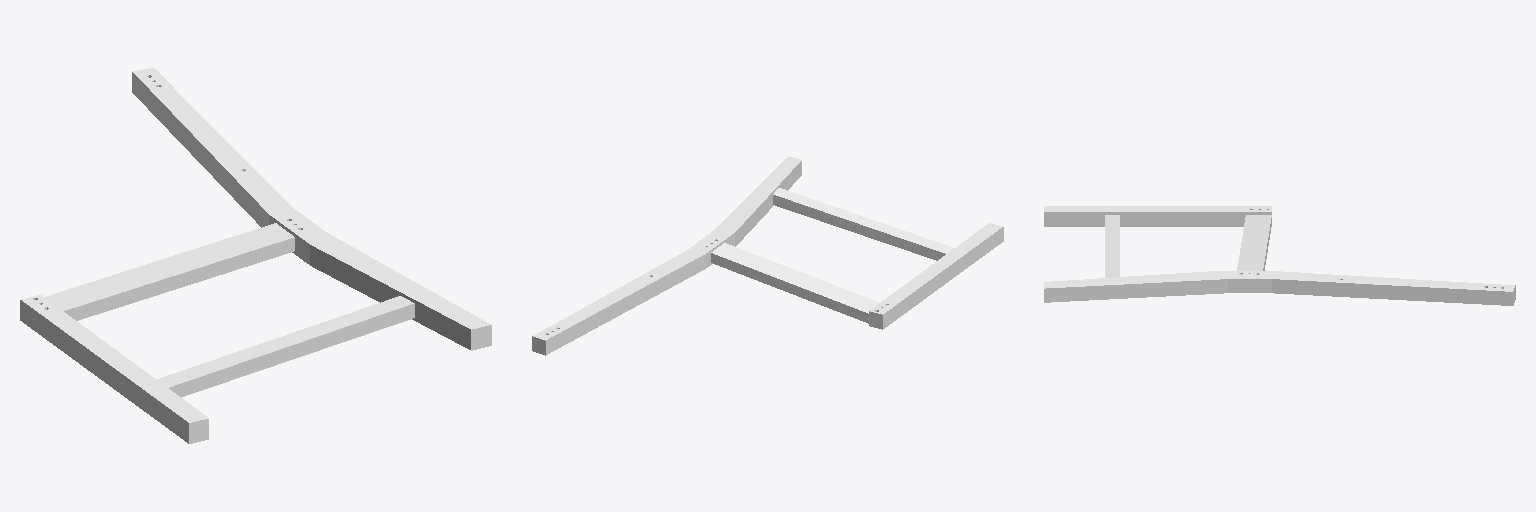
robot.urdf — ikea_stefan_side_right:
<?xml version="1.0" ?>
<robot name="ikea_stefan_side_right">
  <link name="object_link">
    <inertial>
      <origin rpy="0 0 0" xyz="0.15 0.3 0.02"/>
       <mass value=".2"/>
       <inertia ixx="0" ixy="0" ixz="0" iyy="0" iyz="0" izz="0"/>
    </inertial>
    <visual>
      <origin rpy="0 0 0" xyz="0 0 0"/>
      <geometry>
				<mesh filename="ikea_stefan_side_right.stl" scale="1 1 1"/>
      </geometry>
       <material name="white">
        <color rgba="1 1 1 1"/>
      </material>
    </visual>
    <collision>
      <origin rpy="0 0 0" xyz="0 0 0"/>
      <geometry>
      <mesh filename="ikea_stefan_side_right.stl" scale="1 1 1"/>
      </geometry>
    </collision>
  </link>
</robot>

--- What the picture shows (computed from the rendered views, not written in the file) ---
Views: 3 orthographic renders of the robot side by side, from view 1: azimuth 30°, elevation 25°; view 2: azimuth 150°, elevation 25°; view 3: azimuth 270°, elevation 25°.
Robot: ikea_stefan_side_right — 1 links, 0 joints (none); root link object_link; default pose: every joint at zero.
Links seen in each view (by area): view 1: object_link; view 2: object_link; view 3: object_link.
Boxes of the visible links, x1=… form: object_link: x1=20, y1=68, x2=491, y2=443; object_link: x1=532, y1=156, x2=1003, y2=355; object_link: x1=1044, y1=206, x2=1515, y2=305.
Bounding box of the posed robot: 0.4647 × 0.9006 × 0.065 m (x, y, z).
Meshes: 1 distinct files referenced, 1 mesh visuals loaded (1 binary STL).
